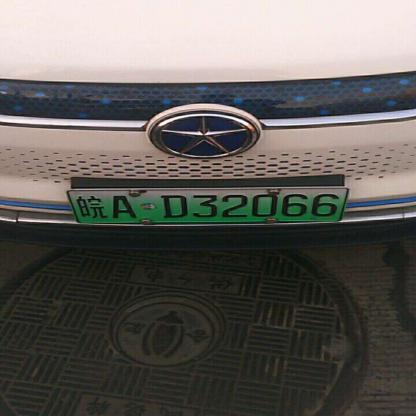lp: (68, 186, 347, 221)
